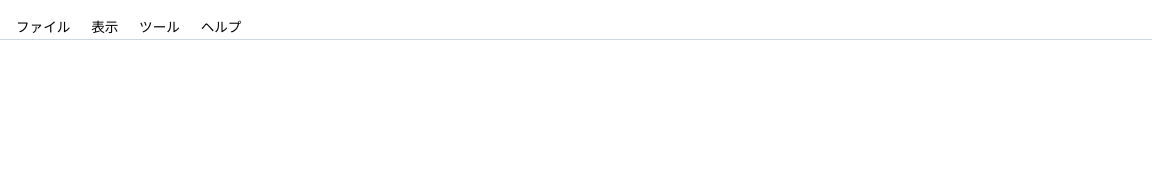
Scenario: MenuBar › 項目クリックでactionが走りメニューが閉じる (testidも付与)
Click the menu item with class "menubar-button" showing "ツール".
click(160, 26)  # box [130,12,190,39]
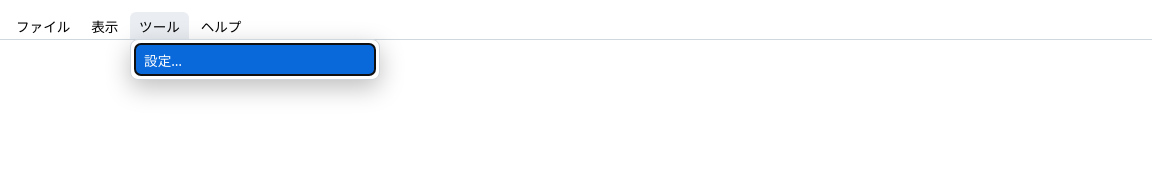
Now the menu item with test id "settings-button" is shown
Click the menu item with test id "settings-button".
click(254, 60)  # box [134,44,374,75]
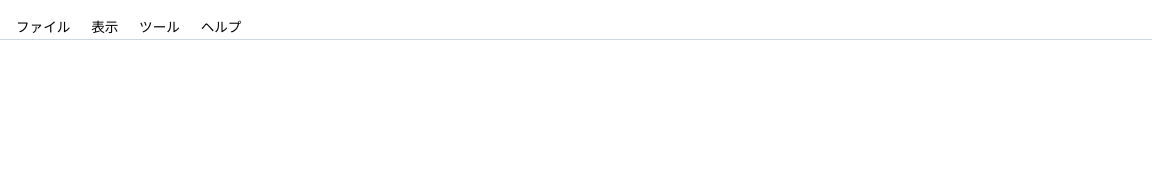
Now the menu with class "menu-popover" is gone
